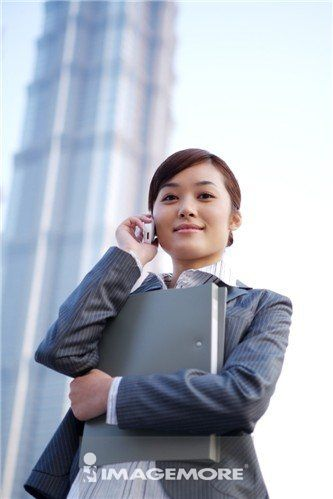talk: (115, 181, 230, 271)
